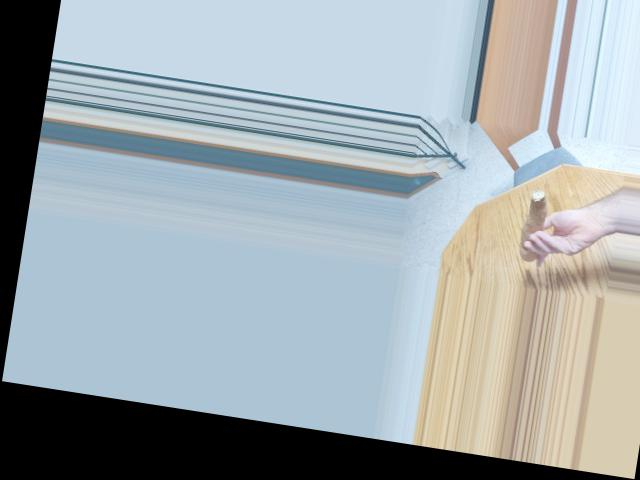sweet_potato: (511, 195, 547, 257)
